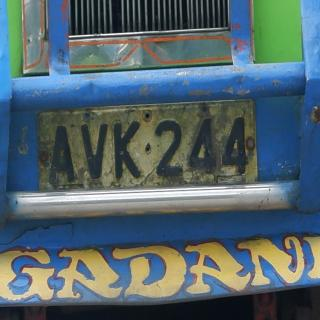license: (39, 101, 259, 192)
